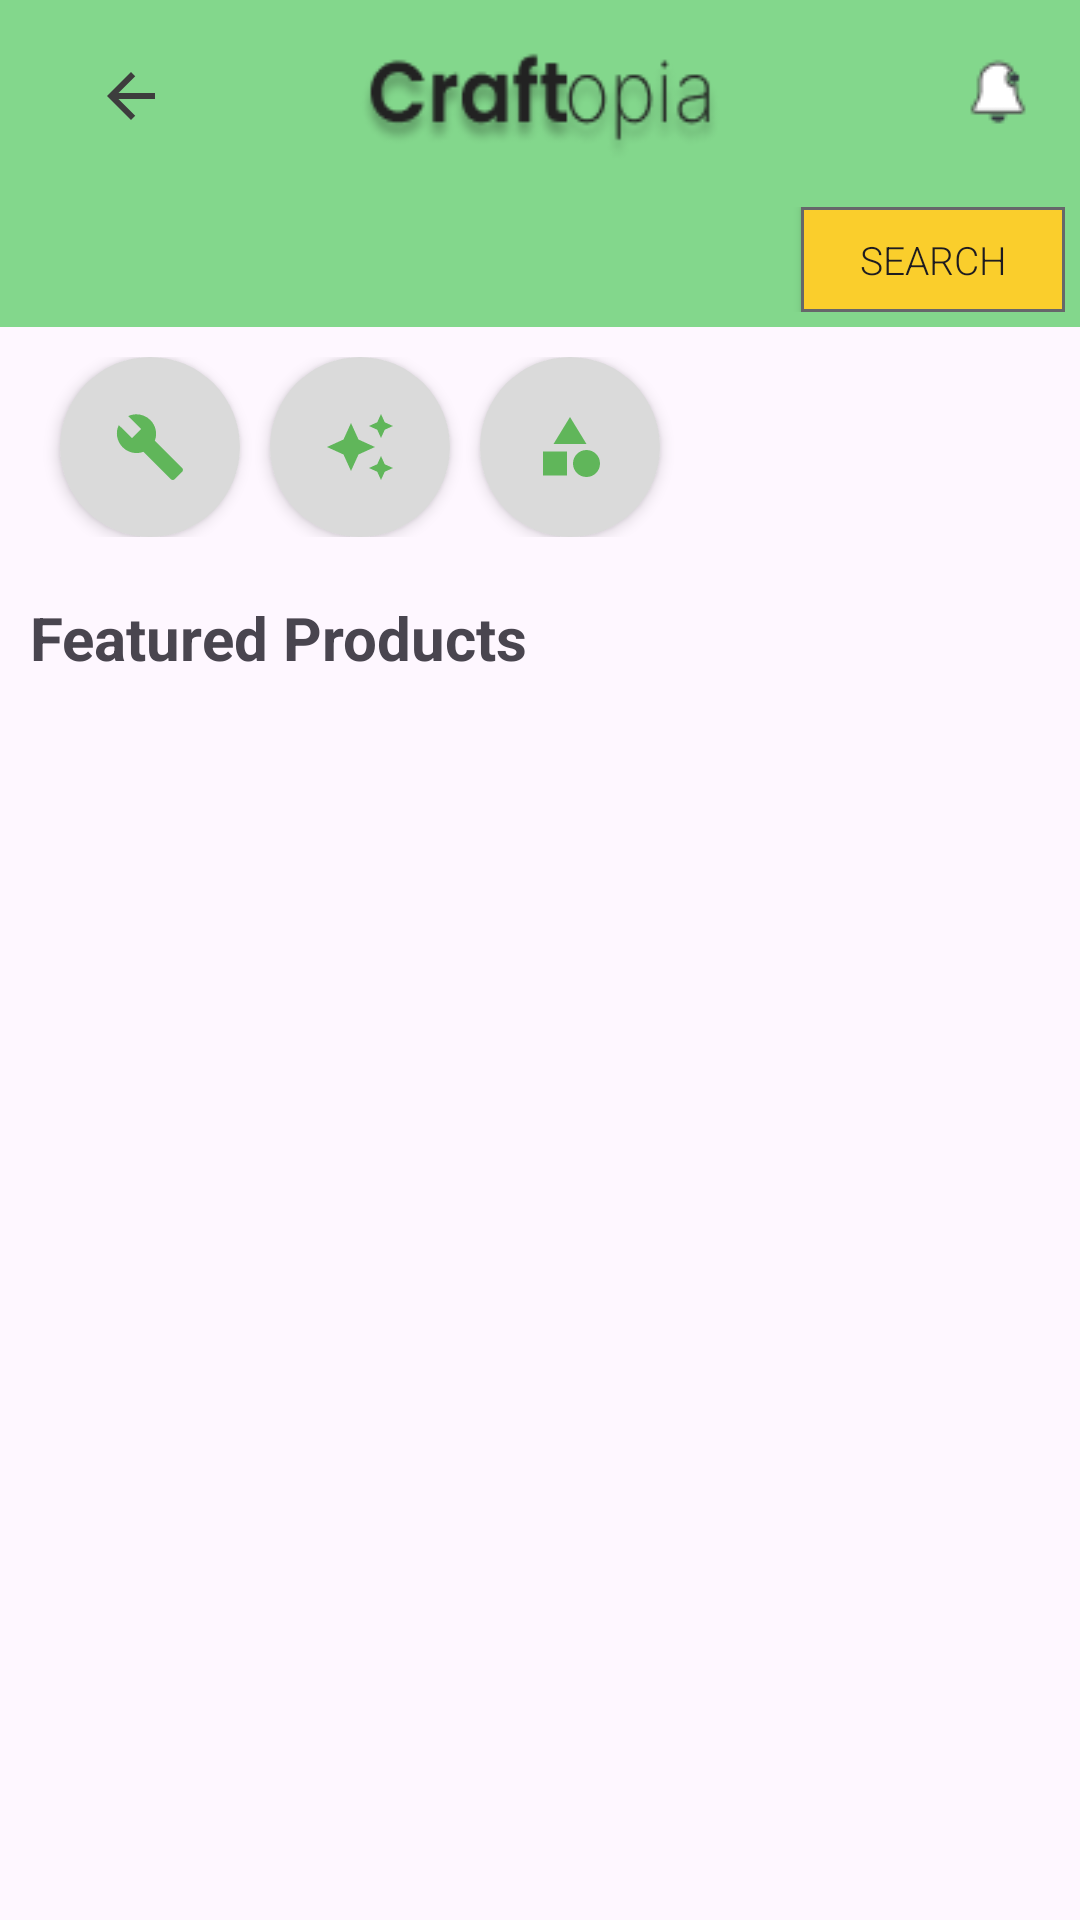

Screen size 1080w x 1920h. Icon name, then its center in pixels as (x=x, y=y):
arrow back: (x=131, y=96)
auto awesome: (x=360, y=447)
build: (x=150, y=447)
category: (x=570, y=447)
notif: (x=998, y=92)
